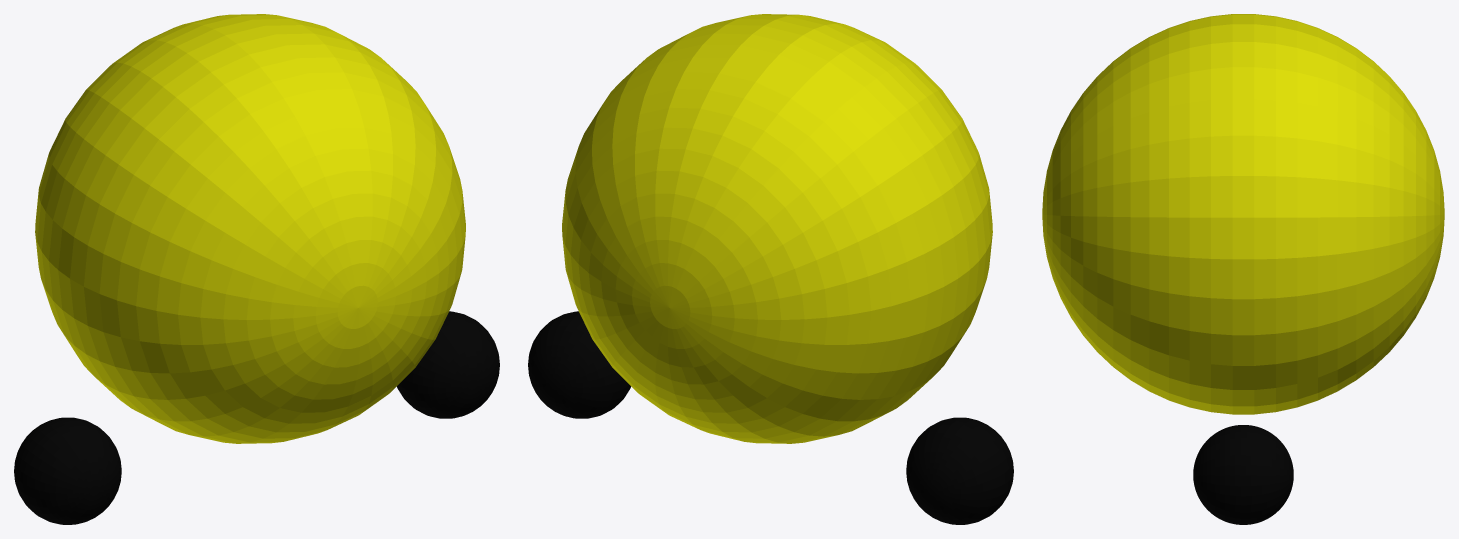
Rendered from Hydrogen Sulfide.glb.
3 views of the same model, side by side, from view 1: azimuth 30°, elevation 25°; view 2: azimuth 150°, elevation 25°; view 3: azimuth 270°, elevation 25° (orthographic). The views are drawn at different scales.
Parts seen in each view (by area): view 1: world; view 2: world; view 3: world.
Part boxes in pixels (left/top/right/bottom): world: left=14, top=14, right=499, bottom=524; world: left=528, top=14, right=1013, bottom=524; world: left=1042, top=14, right=1444, bottom=524.
Size of the model in its own units: 2.52 by 2.25 by 2.
